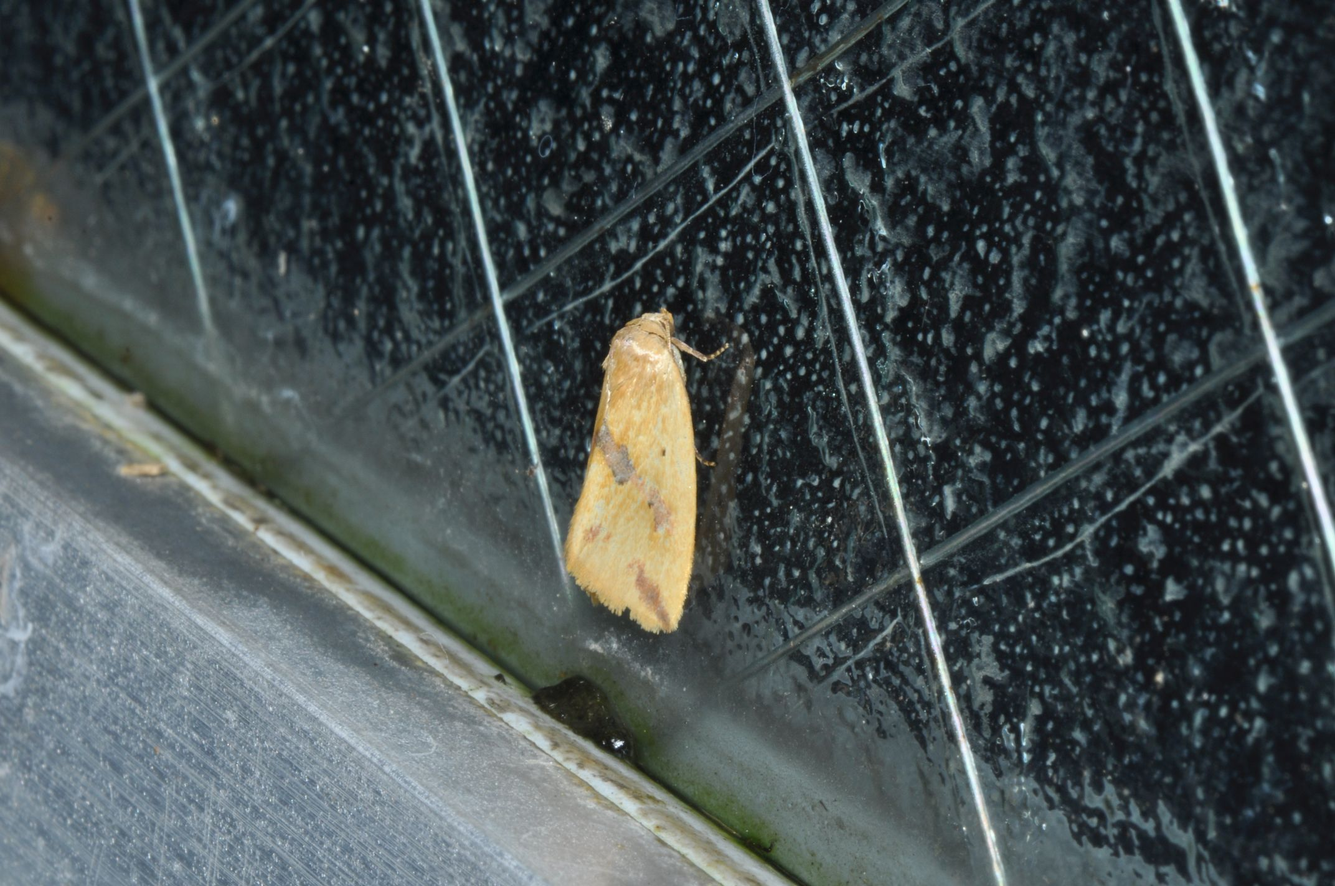Noctuidae: (563, 301, 730, 641)
